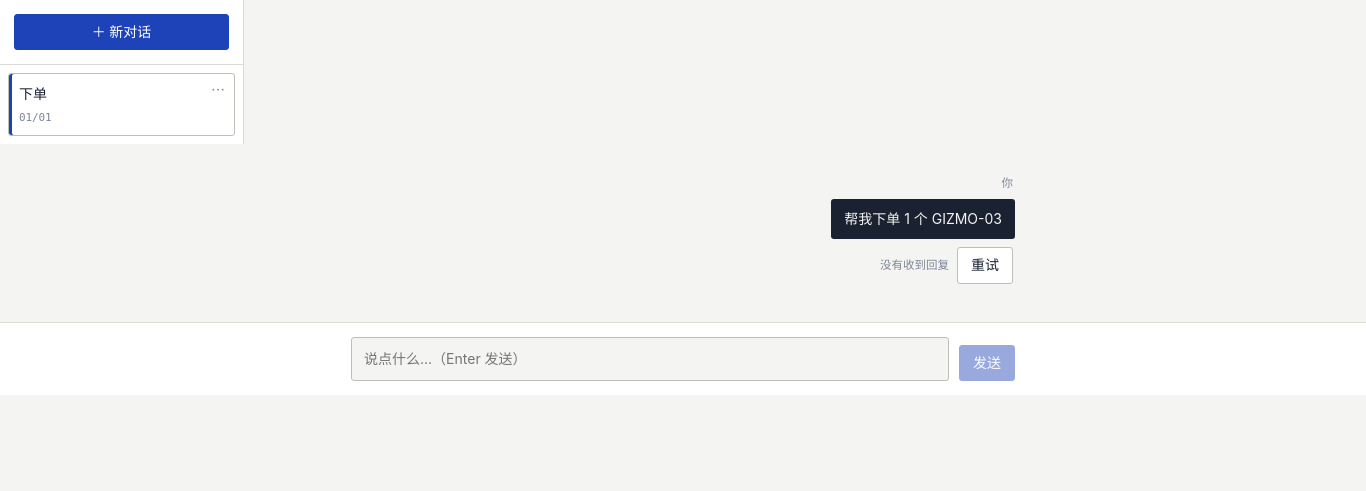
Test case: 有问无答的回合 › 重试复用的是那条提问：不新增一条，服务端按 retry 重跑它
Click the button "重试".
click(985, 265)  # box [957,247,1013,284]
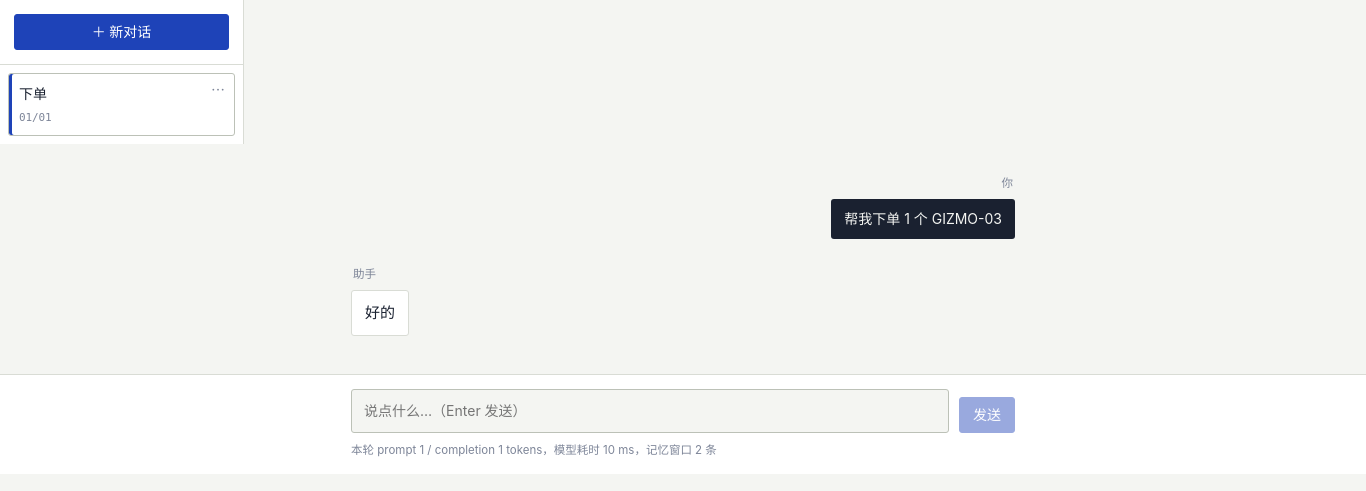
expect the number of elements with class "customer" is 1: met, box [831,176,1015,239]
expect the text "好的" is shown: met, box [365,300,395,326]
